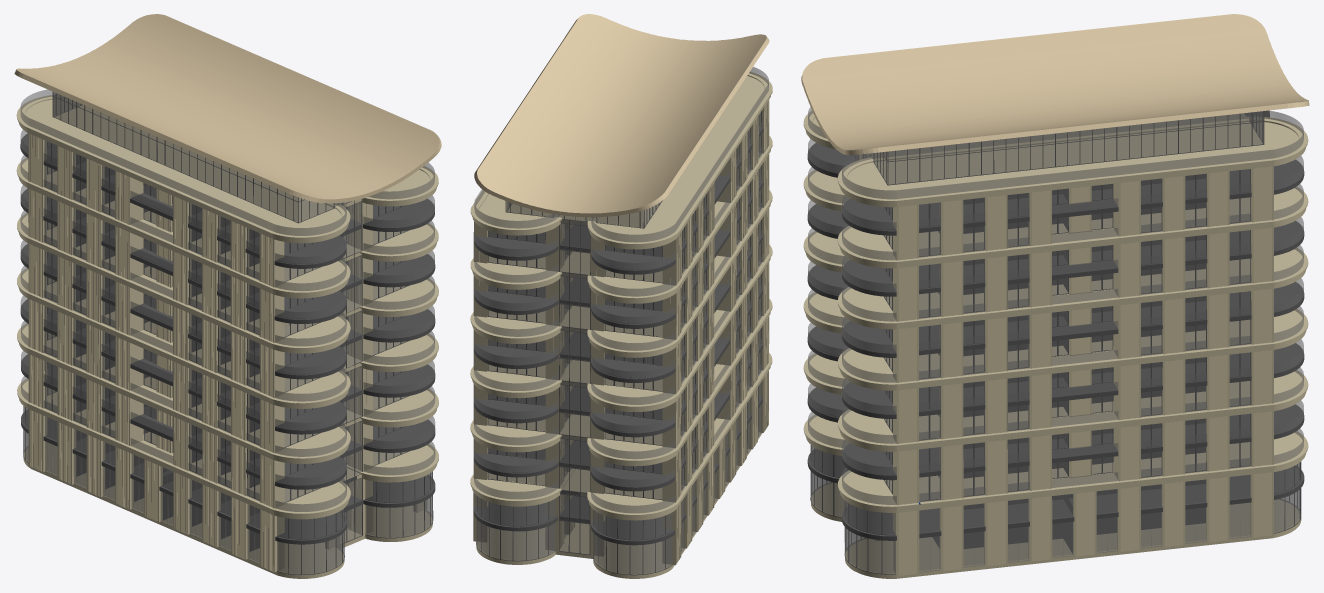
Rendered from Monaco_B1_Import3DFiles.glb.
The picture shows the model from 3 angles, left to right: view 1: azimuth 30°, elevation 25°; view 2: azimuth 150°, elevation 25°; view 3: azimuth 270°, elevation 25°; orthographic projection. The views are drawn at different scales.
Parts seen in each view (by area): view 1: mesh_material_from_multipatch_1, mesh_material_from_multipatch_5, mesh_material_from_multipatch_6, mesh_material_from_multipatch_2, mesh_material_from_multipatch_4, mesh_material_from_multipatch_3; view 2: mesh_material_from_multipatch_1, mesh_material_from_multipatch_5, mesh_material_from_multipatch_2, mesh_material_from_multipatch_6, mesh_material_from_multipatch_4, mesh_material_from_multipatch_3; view 3: mesh_material_from_multipatch_1, mesh_material_from_multipatch_5, mesh_material_from_multipatch_6, mesh_material_from_multipatch_4, mesh_material_from_multipatch_2, mesh_material_from_multipatch_3.
Part boxes in pixels (left/top/right/bottom): mesh_material_from_multipatch_1: left=16, top=95, right=438, bottom=578; mesh_material_from_multipatch_5: left=20, top=89, right=435, bottom=564; mesh_material_from_multipatch_6: left=20, top=92, right=435, bottom=574; mesh_material_from_multipatch_2: left=14, top=14, right=441, bottom=203; mesh_material_from_multipatch_4: left=30, top=134, right=361, bottom=571; mesh_material_from_multipatch_3: left=23, top=93, right=432, bottom=574; mesh_material_from_multipatch_1: left=470, top=72, right=772, bottom=578; mesh_material_from_multipatch_5: left=474, top=67, right=768, bottom=555; mesh_material_from_multipatch_2: left=474, top=14, right=769, bottom=217; mesh_material_from_multipatch_6: left=473, top=111, right=763, bottom=575; mesh_material_from_multipatch_4: left=559, top=100, right=768, bottom=563; mesh_material_from_multipatch_3: left=476, top=201, right=672, bottom=574; mesh_material_from_multipatch_1: left=803, top=110, right=1308, bottom=578; mesh_material_from_multipatch_5: left=808, top=107, right=1303, bottom=572; mesh_material_from_multipatch_6: left=807, top=110, right=1304, bottom=574; mesh_material_from_multipatch_4: left=865, top=154, right=1271, bottom=575; mesh_material_from_multipatch_2: left=801, top=14, right=1309, bottom=155; mesh_material_from_multipatch_3: left=811, top=111, right=1301, bottom=573.
Size of the model in its own units: 32.63 by 46.56 by 49.76.
